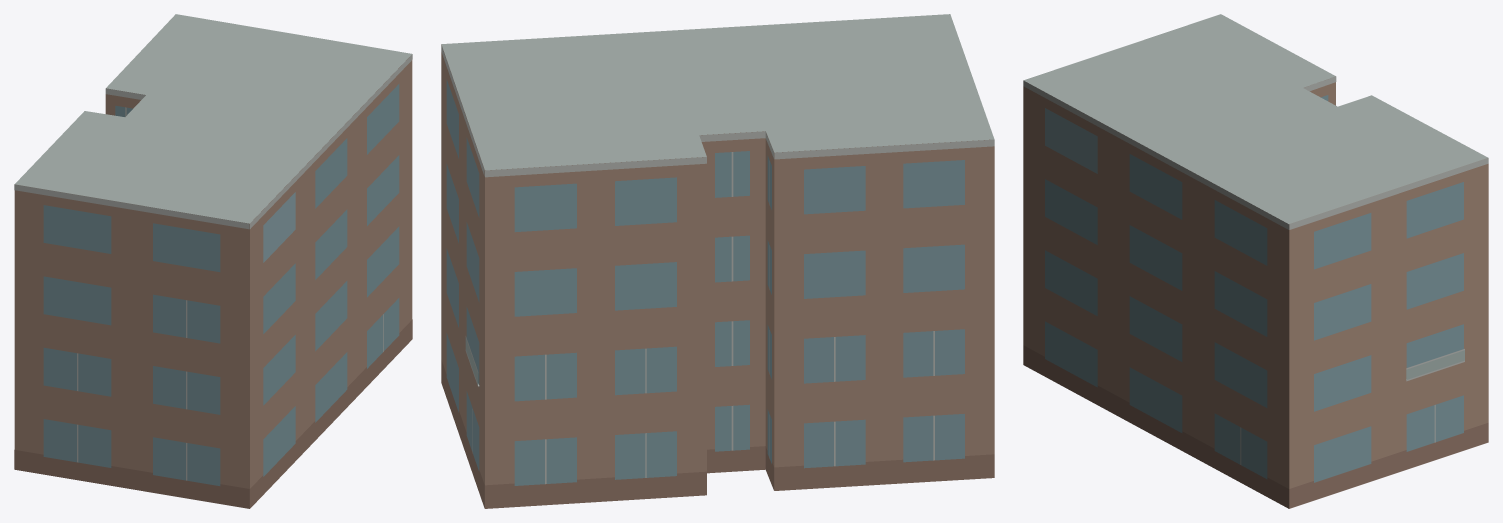
Rendered from survey-upis-32747888.glb.
The picture shows the model from 3 angles, left to right: view 1: azimuth 30°, elevation 25°; view 2: azimuth 150°, elevation 25°; view 3: azimuth 270°, elevation 25°; orthographic projection. The views are drawn at different scales.
Parts seen in each view (by area): view 1: survey-upis-32747888.tmp; view 2: survey-upis-32747888.tmp; view 3: survey-upis-32747888.tmp.
Boxes of the visible parts, x1=… form: survey-upis-32747888.tmp: x1=14, y1=14, x2=412, y2=508; survey-upis-32747888.tmp: x1=441, y1=14, x2=994, y2=508; survey-upis-32747888.tmp: x1=1023, y1=14, x2=1488, y2=508.
Size of the model in its own units: 18.95 by 11.95 by 17.71.
